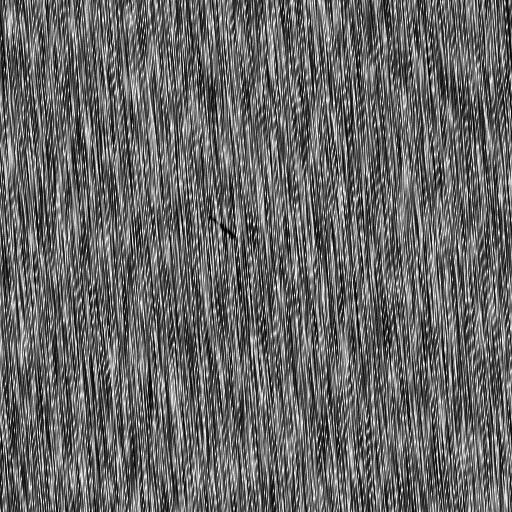DefectTypeC: (207, 214, 236, 243)
